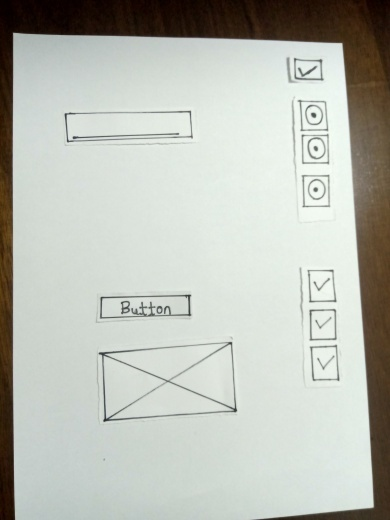button: (102, 296, 191, 316)
checkbox: (310, 349, 336, 382), (309, 308, 335, 341), (307, 270, 333, 303), (292, 54, 322, 80)
img: (99, 341, 236, 421)
radio: (303, 175, 328, 208), (304, 134, 329, 167), (302, 98, 327, 131)
text: (65, 108, 196, 140)
